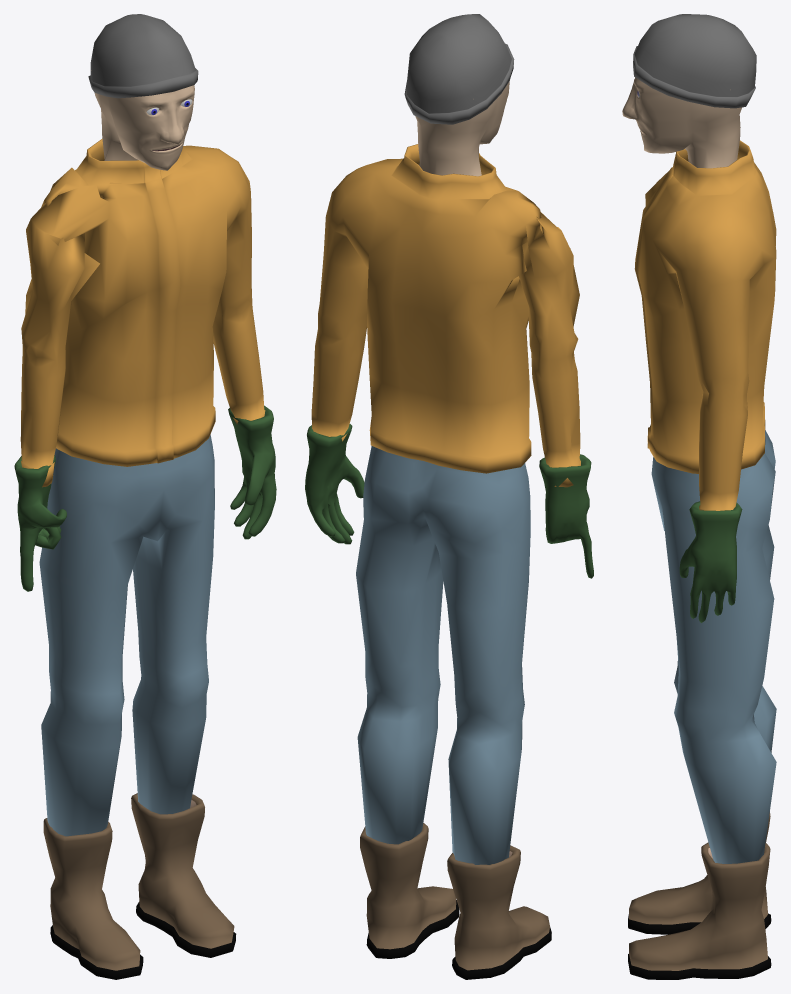
The model's file is genius.dae.
The picture shows the model from 3 angles, left to right: view 1: azimuth 30°, elevation 25°; view 2: azimuth 150°, elevation 25°; view 3: azimuth 270°, elevation 25°; orthographic projection.
Visible parts, largest first — view 1: Cube_005; view 2: Cube_005; view 3: Cube_005.
Boxes of the visible parts, x1,y1,x2,y2 form: Cube_005: (14,14,276,979); Cube_005: (305,14,593,979); Cube_005: (622,14,776,979).
Bounding box in the file's own units: 0.5279 × 0.2625 × 1.74.
